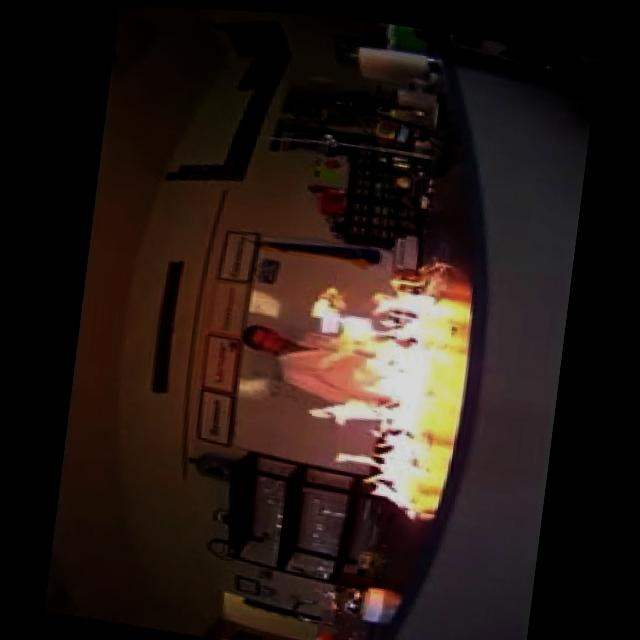Fire: (280, 247, 449, 526)
